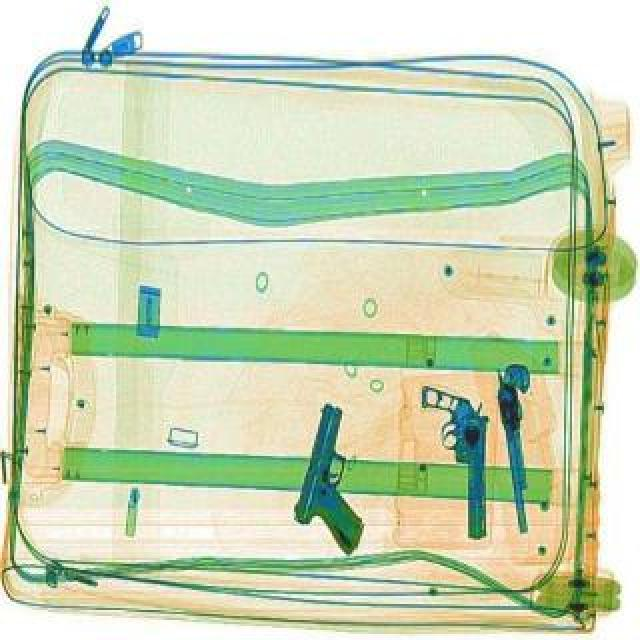gun: (284, 400, 392, 556), (418, 382, 490, 538), (496, 360, 532, 532)
